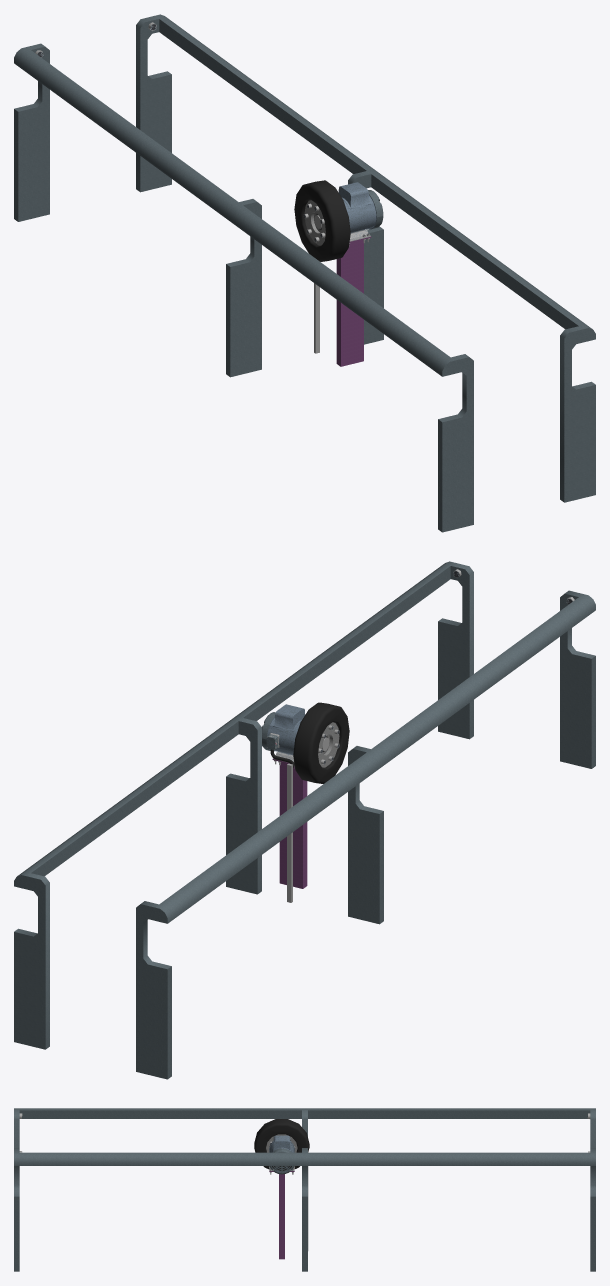
The model's file is Storage Track.dae.
3 renders of one model, top to bottom at view 1: azimuth 30°, elevation 25°; view 2: azimuth 150°, elevation 25°; view 3: azimuth 270°, elevation 25°, orthographic. The views are drawn at different scales.
Visible parts, largest first — view 1: Track (×2), SketchUp (×2), wheel0_; view 2: Track (×2), SketchUp (×3), wheel0_; view 3: Track (×2), wheel0_, SketchUp (×2).
Part boxes in pixels (x1,y1,x2,y2): Track (×2): (14, 14, 595, 532); SketchUp (×2): (336, 182, 376, 366); wheel0_: (294, 180, 350, 261); Track (×2): (14, 561, 595, 1079); SketchUp (×3): (267, 704, 307, 902); wheel0_: (293, 702, 349, 783); Track (×2): (14, 1108, 595, 1271); wheel0_: (254, 1119, 309, 1169); SketchUp (×2): (269, 1135, 294, 1259).
Bounding box in the file's own units: 40.76 × 197 × 46.67.
23 materials, 17 textured.
